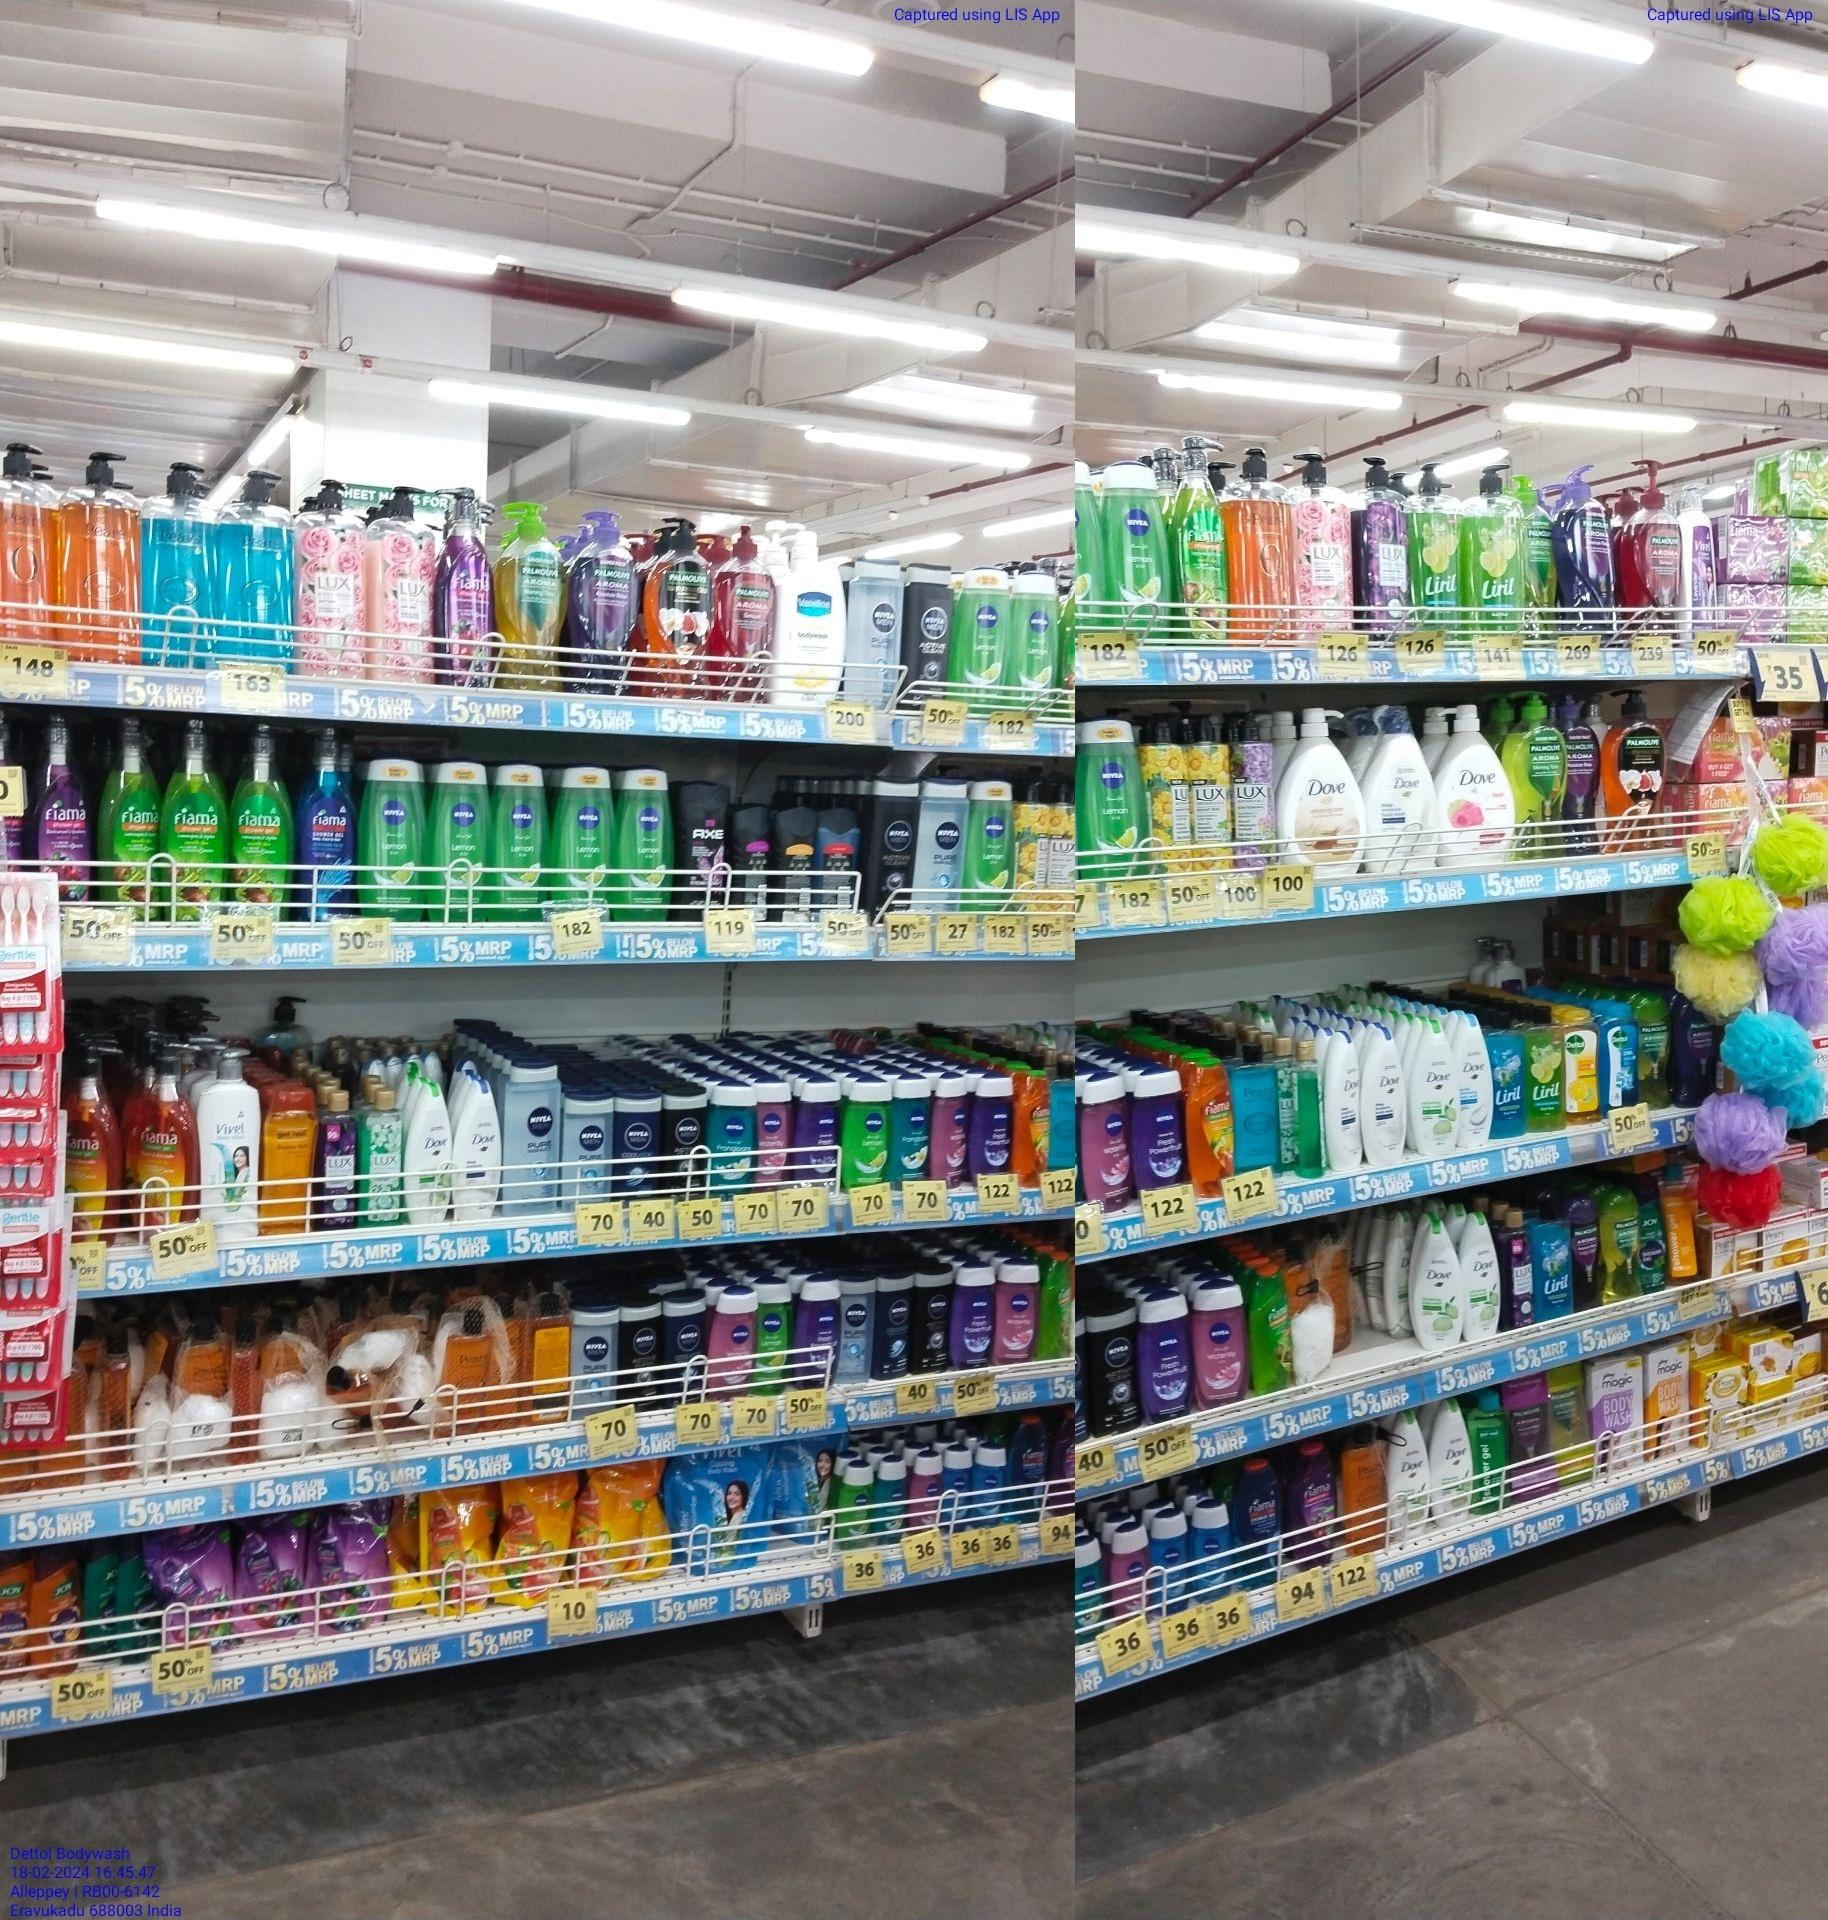Dettol_Bodywash_Cool: (1602, 1005, 1639, 1111)
Dettol_Bodywash_Refresh: (1566, 1013, 1600, 1126)
Dove_Deep_Moisture_Body_Wash_250ML: (454, 1082, 504, 1222), (1360, 1023, 1406, 1164), (1324, 1030, 1356, 1173)
Dove_Gentle_Exfoliating_Body_Wash_250ML: (1459, 1011, 1492, 1145)
Dove_Refreshing_Body_Wash_250ML: (405, 1082, 451, 1226), (1411, 1023, 1458, 1157), (1418, 1219, 1463, 1346), (1434, 1402, 1473, 1522), (1466, 1210, 1502, 1339), (1396, 1418, 1428, 1541)
Fiama_Shower_Gel_Peach_and_Avocado_250ML: (1187, 1056, 1231, 1195)
Get_Real_Shower_Gel_Moisturising_Glycerin_300ML: (257, 1085, 314, 1233)
Joy_Shower_Gel_Mint_and_Eucalyptus_250ML: (1641, 1181, 1669, 1291)
Liril_Cooling_Mint_Body_Wash_250ML: (1533, 1205, 1572, 1317), (1494, 1018, 1526, 1143)
Liril_Lime_and_Tea_Tree_Oil_Body_Wash_250ML: (1528, 1017, 1564, 1137)
Lux_Black_Orchid_Scent_and_Juniper_Oil_Body_Wash_245ML: (317, 1089, 358, 1231)
Lux_Body_Wash_Skin_Detox_Freesia_Scent_and_Alove_Vera_245ML: (358, 1087, 403, 1226)
Nivea_Shower_Gel_Frangipani_and_Oil_250ML: (707, 1087, 753, 1195), (890, 1075, 926, 1186)
Nivea_Shower_Gel_Fresh_Powerfruit_250ML: (1135, 1289, 1190, 1419), (1133, 1068, 1183, 1188), (791, 1274, 833, 1387), (971, 1075, 1013, 1178), (794, 1077, 833, 1186), (953, 1263, 988, 1365)
Nivea_Shower_Gel_Lemon_and_Oil_250ML: (1106, 463, 1171, 636), (1077, 722, 1149, 876), (357, 759, 424, 924), (429, 761, 494, 922), (554, 768, 614, 900), (499, 766, 549, 919), (621, 770, 670, 921), (950, 569, 1001, 713), (1007, 571, 1058, 711), (962, 778, 1015, 910), (842, 1077, 887, 1186), (756, 1275, 787, 1390)
Nivea_Shower_Gel_Waterlily_and_Oil_250ML: (1082, 1070, 1128, 1209), (1194, 1282, 1245, 1404), (708, 1289, 756, 1401), (993, 1258, 1036, 1358), (933, 1073, 969, 1181), (758, 1087, 791, 1190)
Palmolive_Aroma_Morning_Tonic_Shower_Gel_250ML: (1603, 1190, 1638, 1301), (1639, 996, 1672, 1109)
Palmolive_Aroma_Relax_250ML: (1572, 1200, 1603, 1310)
